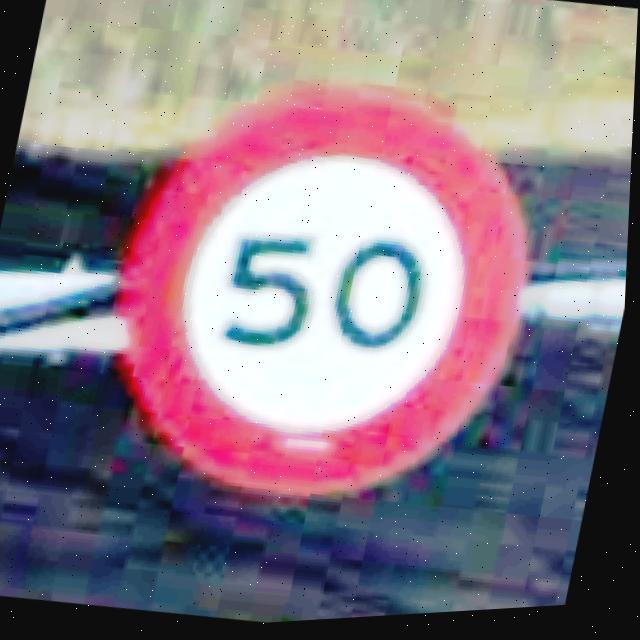max50: (78, 43, 568, 542)
